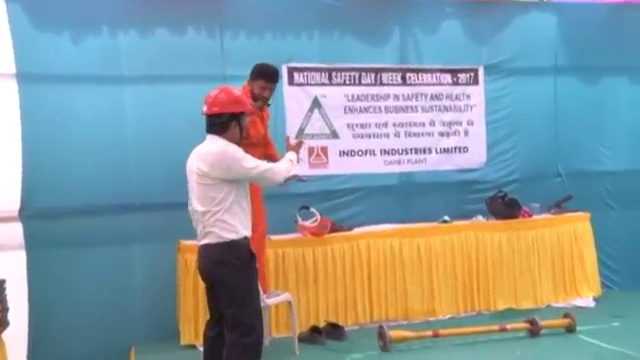helmet: (200, 85, 253, 115)
helmet_off: (245, 63, 279, 107)
helmet_on: (199, 85, 253, 146)
person: (177, 85, 301, 360), (235, 61, 285, 295)
